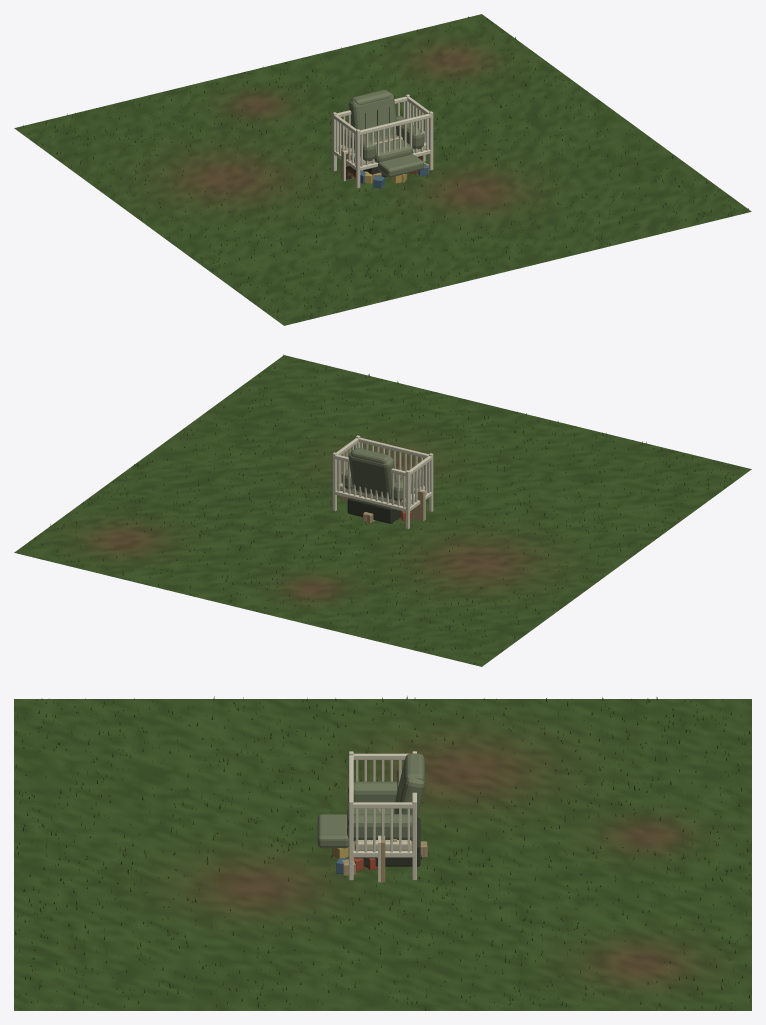
Rendered from nursery-kit.glb.
3 views of the same model, one above another, from view 1: azimuth 30°, elevation 25°; view 2: azimuth 150°, elevation 25°; view 3: azimuth 270°, elevation 25° (orthographic). The views are drawn at different scales.
Parts seen in each view (by area): view 1: Grass_and_bare_soil, Head_cushion, Crib_post; view 2: Grass_and_bare_soil, Crib_post, Head_cushion, Recliner_base; view 3: Grass_and_bare_soil, Head_cushion, Crib_post, Recliner_base.
Part boxes in pixels (x1,y1,x2,y2): Grass_and_bare_soil: (14, 14, 751, 325); Head_cushion: (344, 90, 424, 177); Crib_post: (332, 94, 433, 188); Grass_and_bare_soil: (14, 354, 751, 666); Crib_post: (332, 435, 433, 529); Head_cushion: (342, 448, 424, 501); Recliner_base: (347, 497, 401, 523); Grass_and_bare_soil: (14, 696, 751, 1010); Head_cushion: (317, 753, 424, 848); Crib_post: (349, 751, 416, 880); Recliner_base: (354, 817, 420, 866).
Size of the model in its own units: 10 by 1.97 by 10.
Materials: 11 (1 with a texture image).
